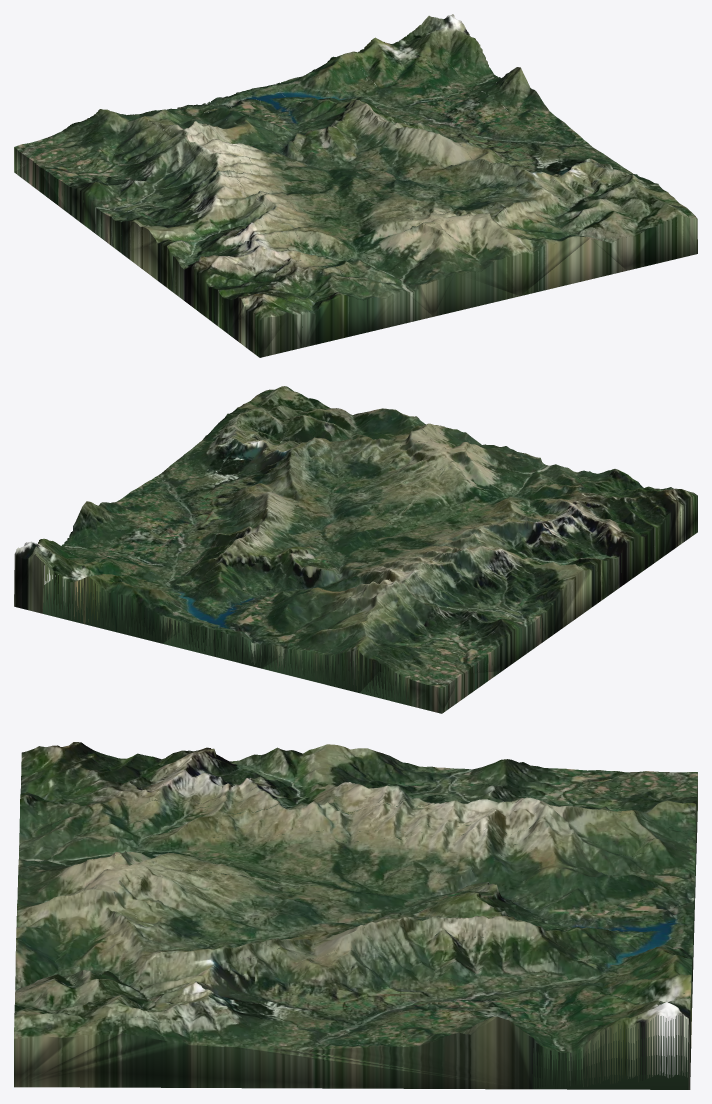
The model's file is devoluy.glb.
The picture shows the model from 3 angles, top to bottom: view 1: azimuth 30°, elevation 25°; view 2: azimuth 150°, elevation 25°; view 3: azimuth 270°, elevation 25°; orthographic projection. The views are drawn at different scales.
Parts seen in each view (by area): view 1: devoluy; view 2: devoluy; view 3: devoluy.
Part boxes in pixels (box(x1,y1,x2,y2)): devoluy: box(14, 14, 697, 357); devoluy: box(14, 386, 697, 713); devoluy: box(14, 742, 697, 1089).
Size of the model in its own units: 3275 by 438 by 3286.
Materials: 1 (1 with a texture image).
